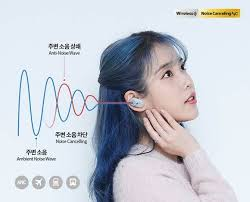earphone: (124, 90, 148, 112)
